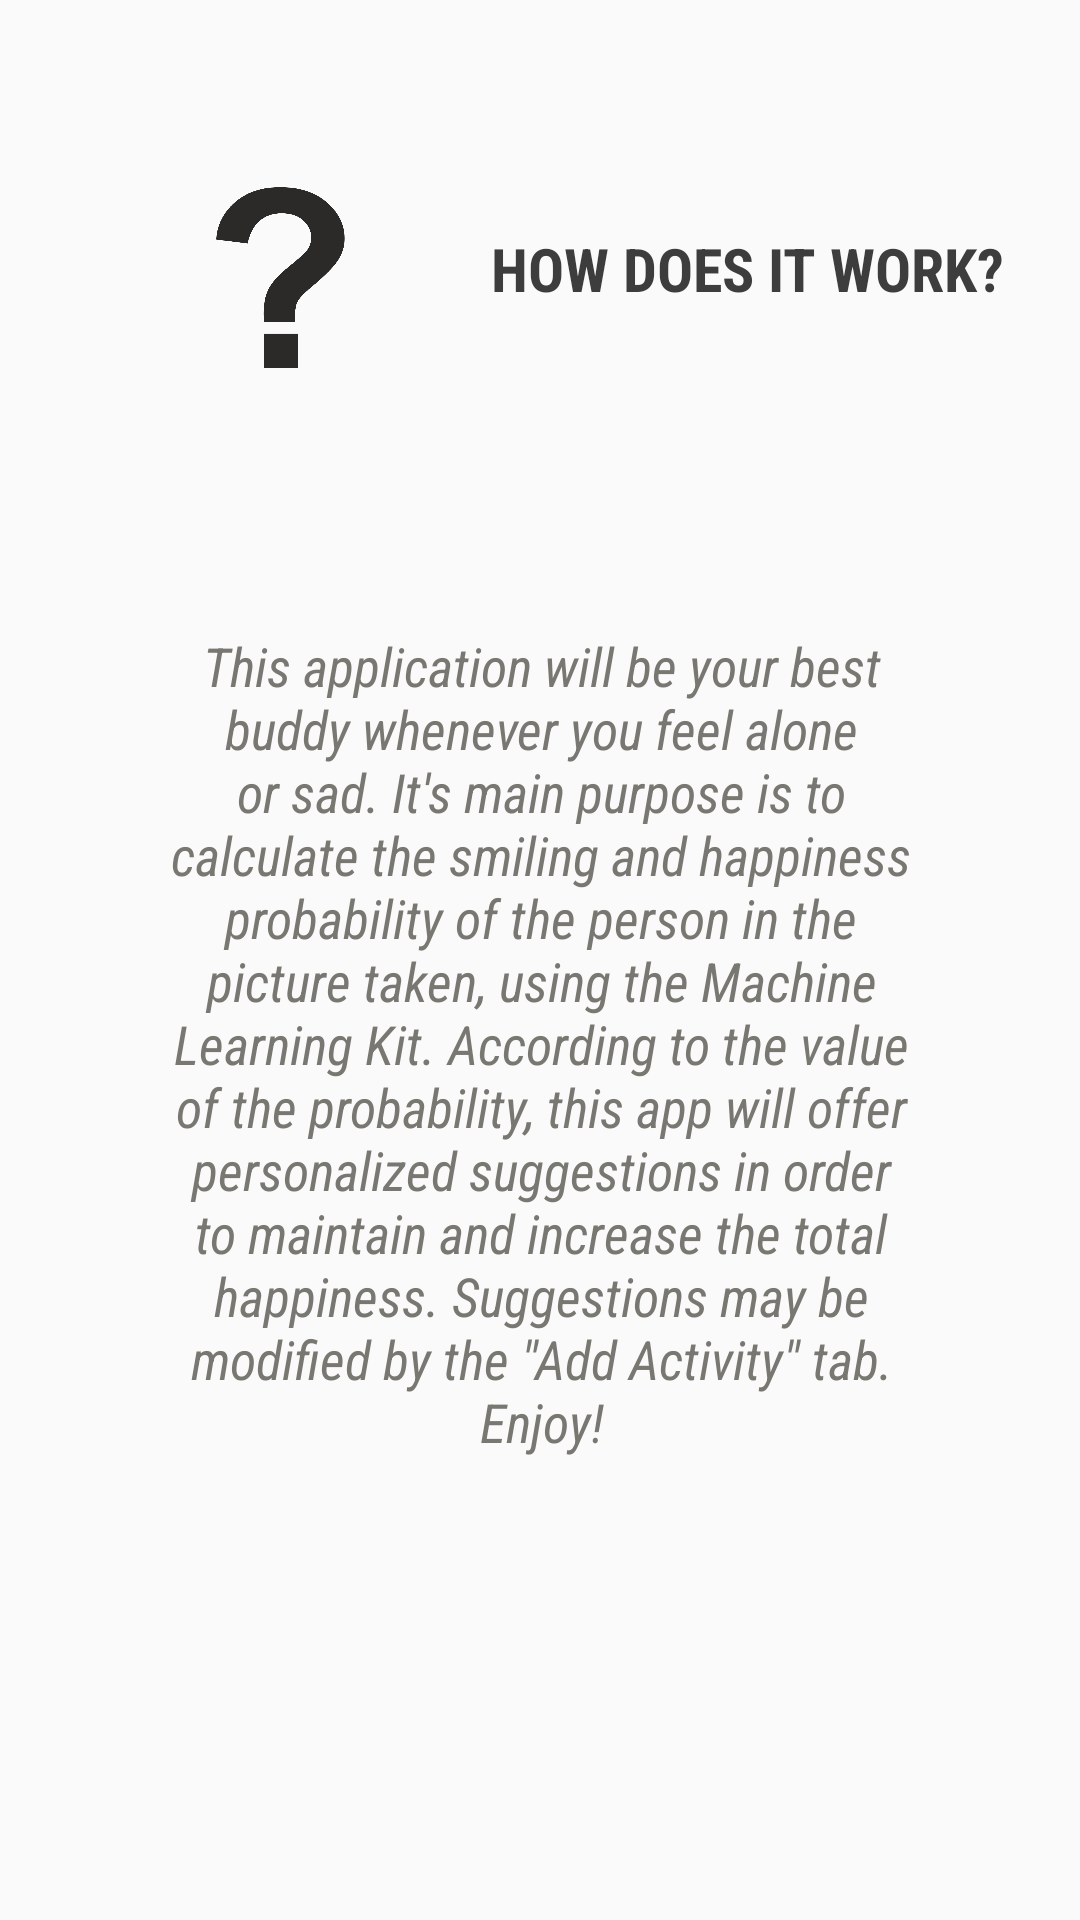

Icons on this 1080 × 1920 Android screen, each with the point to tap as (x=x, y=y):
questionmark: (x=280, y=277)
